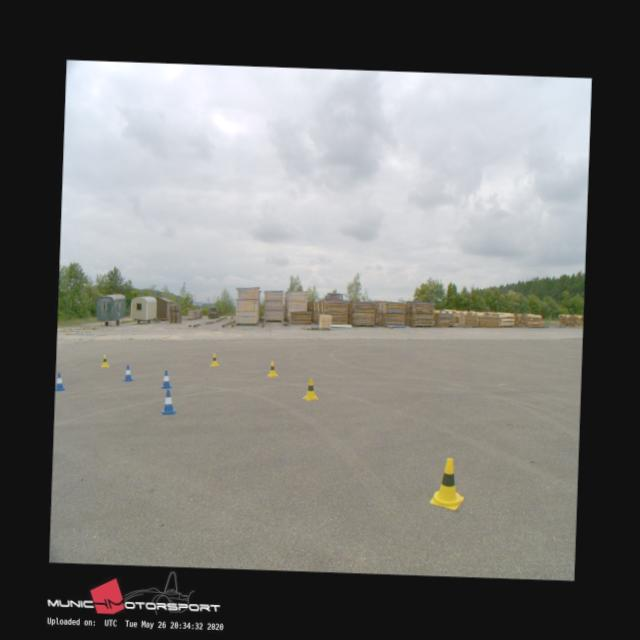blue_cone: (160, 389, 176, 414), (160, 370, 172, 388), (54, 372, 66, 389), (122, 364, 132, 380)
yellow_cone: (428, 456, 464, 509), (302, 377, 318, 399), (266, 360, 278, 376), (209, 352, 218, 366), (100, 353, 108, 366)
